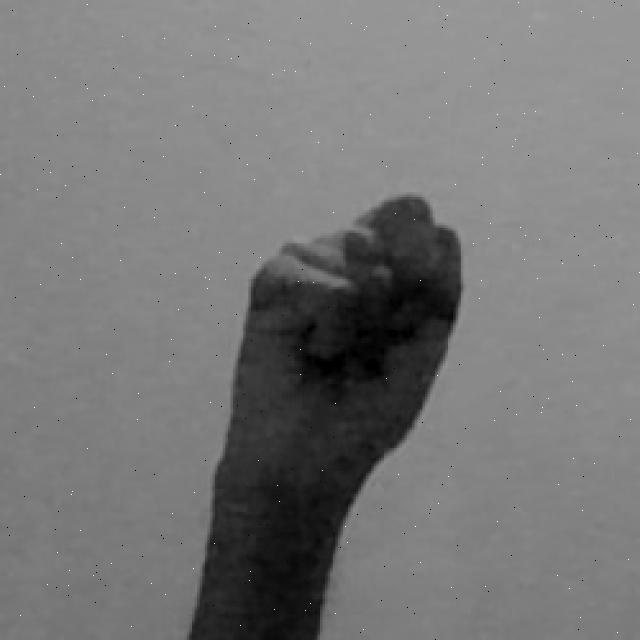N: (184, 187, 468, 640)
